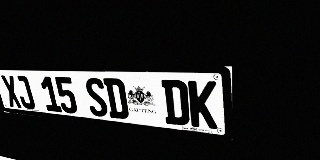1: (38, 76, 62, 112)
5: (54, 77, 79, 114)
D: (161, 80, 190, 126), (103, 78, 130, 120)
J: (13, 76, 36, 110)
K: (188, 80, 218, 129)
S: (83, 77, 109, 118)
X: (0, 75, 23, 108)
